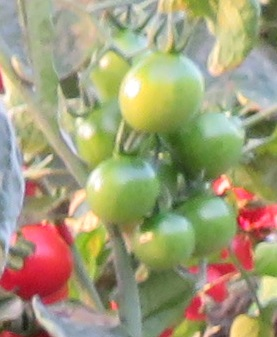green: (114, 53, 201, 135), (84, 154, 161, 226), (172, 108, 250, 176), (127, 219, 196, 271), (192, 190, 241, 259)
red: (11, 222, 73, 299)
